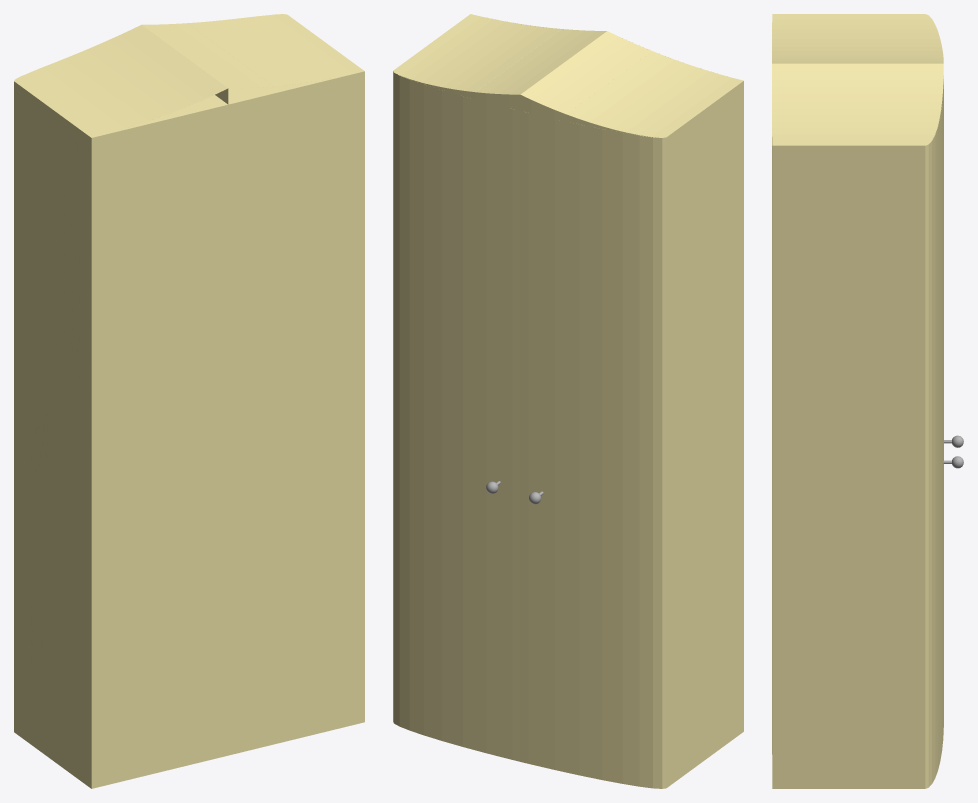
3 renders of one model, left to right at view 1: azimuth 30°, elevation 25°; view 2: azimuth 150°, elevation 25°; view 3: azimuth 270°, elevation 25°, orthographic.
Parts seen in each view (by area): view 1: mesh1_mesh1-geometry; view 2: mesh1_mesh1-geometry; view 3: mesh1_mesh1-geometry.
Part boxes in pixels (x1=…): mesh1_mesh1-geometry: x1=14, y1=14, x2=364, y2=788; mesh1_mesh1-geometry: x1=393, y1=14, x2=743, y2=788; mesh1_mesh1-geometry: x1=772, y1=14, x2=943, y2=788.
Size of the model in its own units: 0.383 by 0.8932 by 0.2355.
